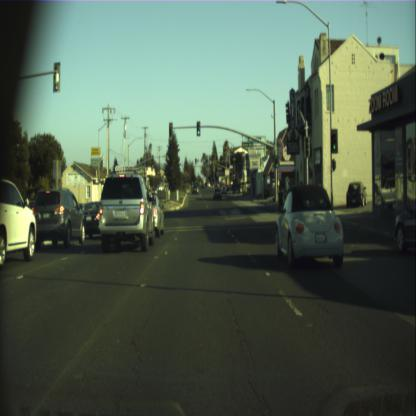Green: (330, 130, 338, 152), (196, 120, 200, 135), (275, 158, 278, 168), (233, 170, 235, 178), (230, 172, 231, 179)
RedLeft: (168, 124, 172, 136)
